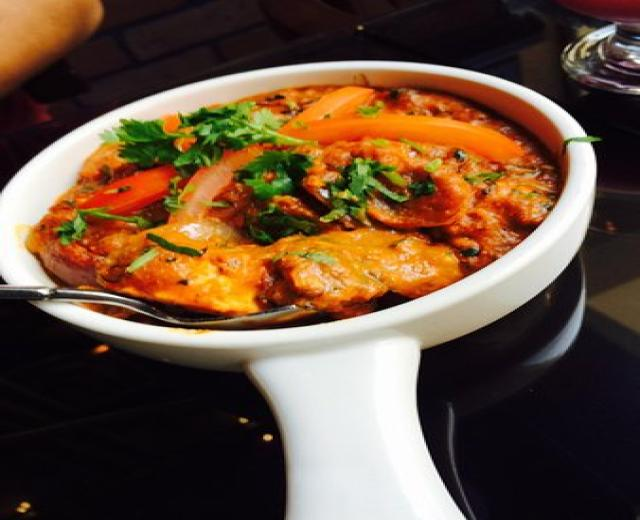kadai paneer: (30, 86, 559, 318)
